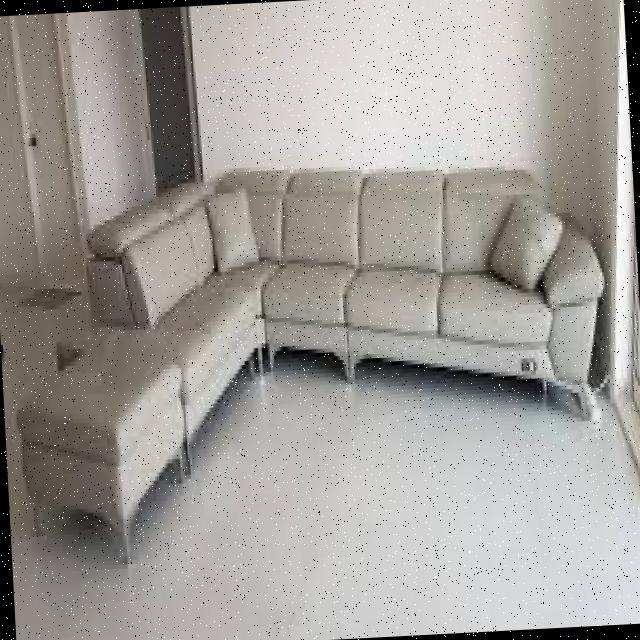Sofa: (0, 117, 640, 604)
